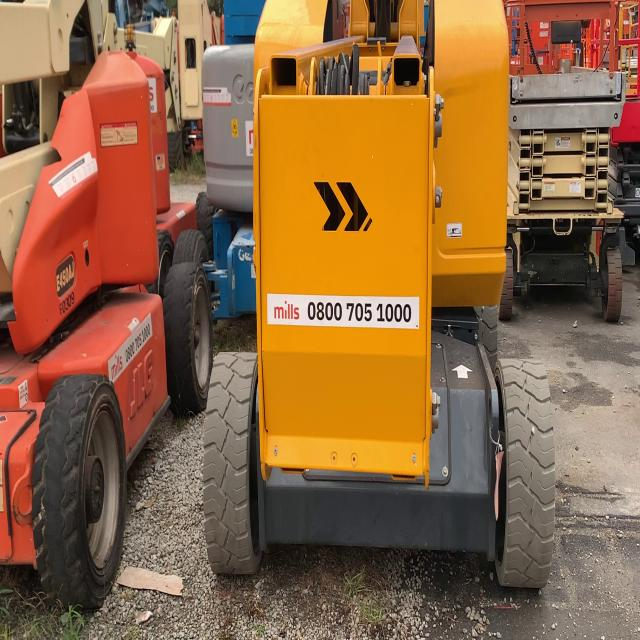Adesivo Longo: (263, 286, 424, 336), (103, 305, 158, 393)
